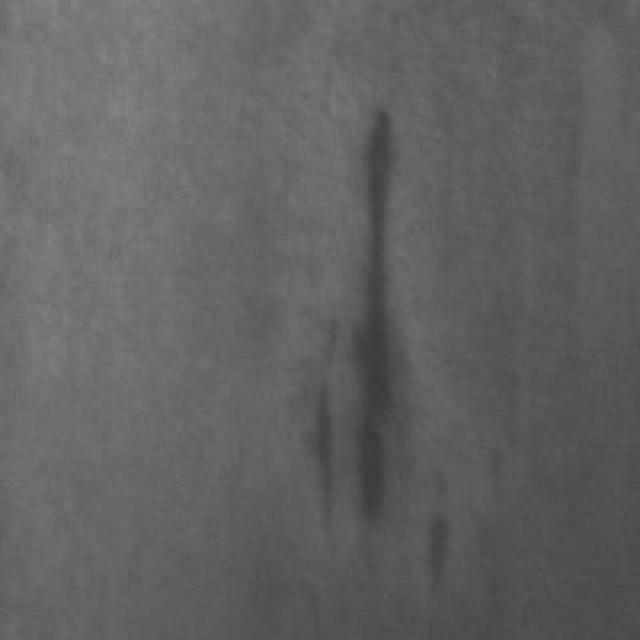inclusion: (285, 96, 422, 544)
